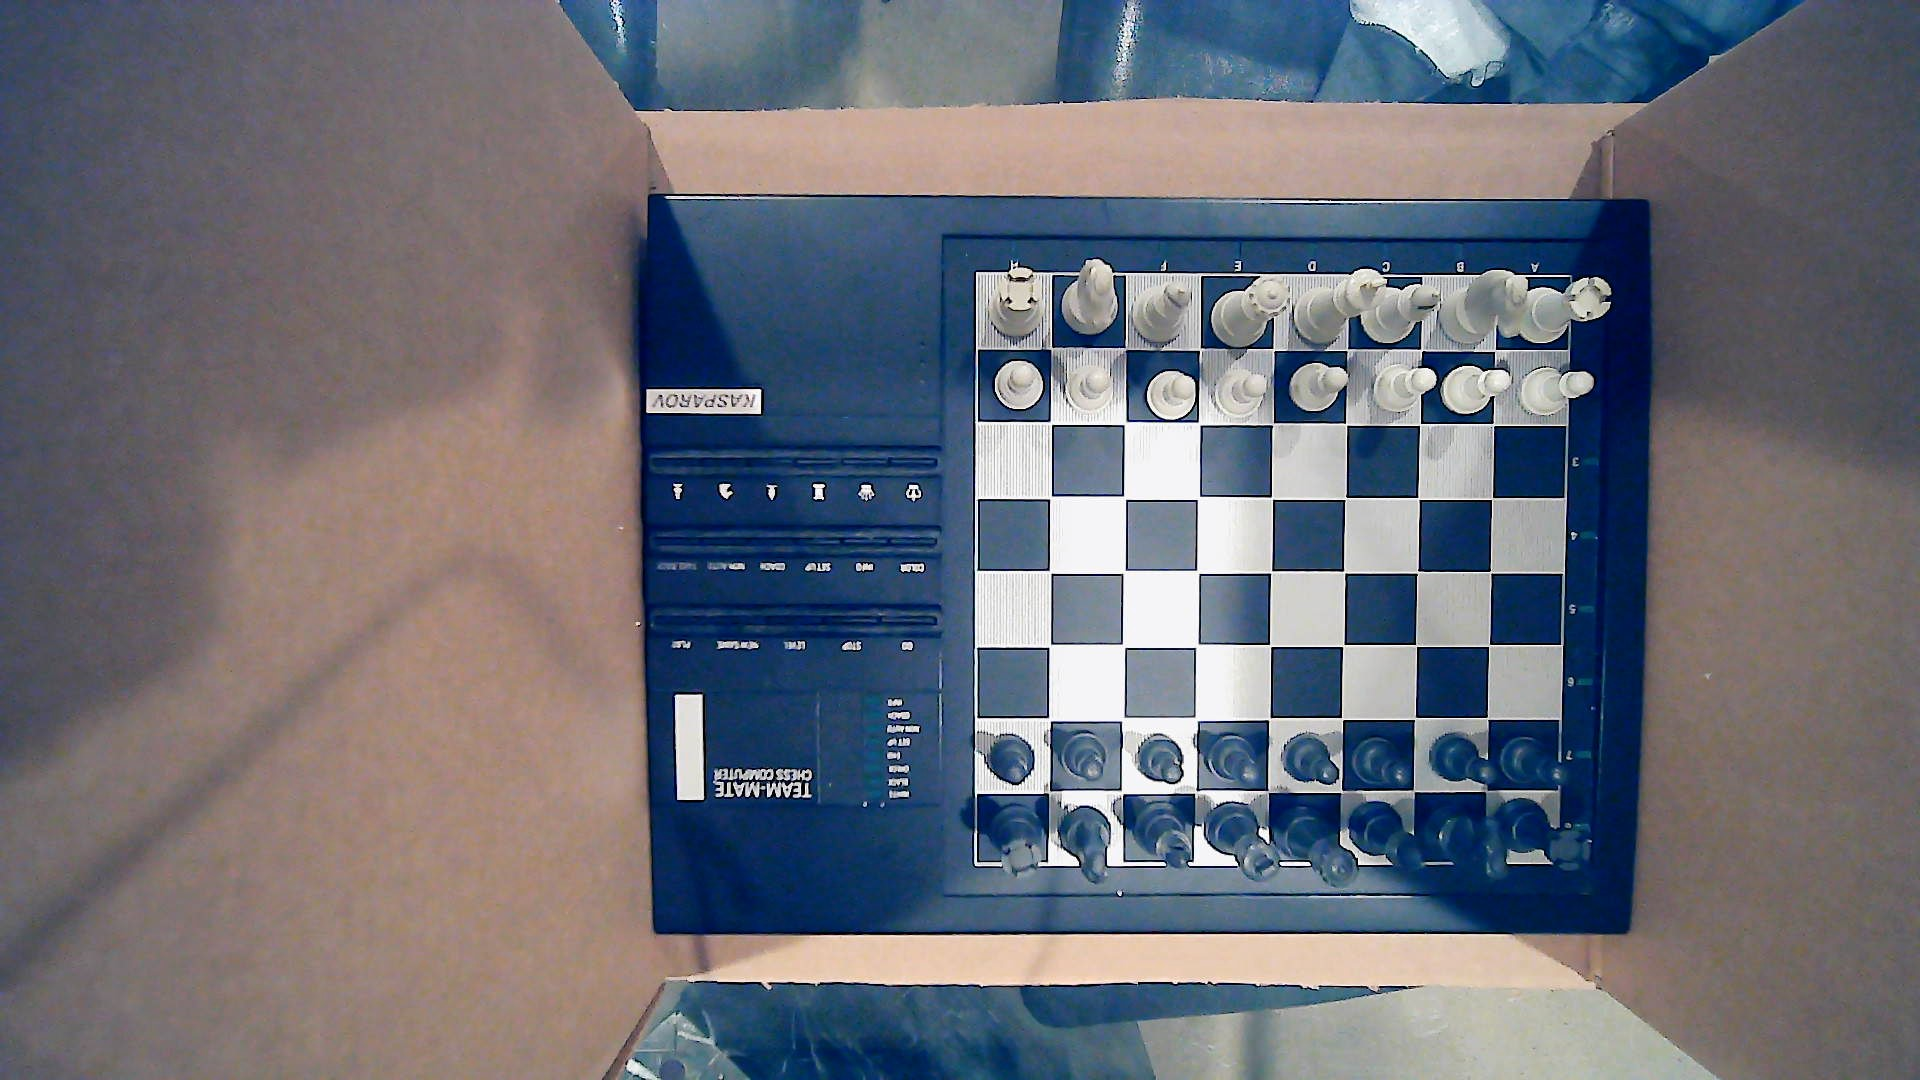bbishop: (1352, 800, 1428, 874), (1131, 802, 1196, 872)
bking: (1203, 802, 1282, 884)
bknight: (1422, 807, 1507, 884), (1058, 806, 1114, 887)
bpawn: (1498, 733, 1572, 790), (1429, 732, 1497, 789), (1280, 733, 1341, 789), (1352, 737, 1412, 790), (1205, 735, 1262, 789), (985, 733, 1036, 787), (1135, 735, 1189, 786), (1058, 732, 1109, 785)
bqueen: (1273, 806, 1361, 887)
brook: (1501, 796, 1592, 874), (985, 806, 1046, 880)
wbishop: (1361, 284, 1443, 343), (1130, 280, 1197, 345)
wking: (1294, 266, 1389, 348)
wknight: (1440, 270, 1528, 345), (1052, 256, 1120, 336)
wpawn: (1519, 365, 1594, 418), (1443, 364, 1513, 415), (1370, 363, 1437, 415), (1288, 360, 1349, 413), (1145, 368, 1197, 423), (1212, 369, 1269, 419), (994, 359, 1046, 411), (1064, 365, 1118, 415)
wqueen: (1209, 274, 1294, 349)
wrook: (1522, 272, 1614, 344), (976, 266, 1046, 340)
